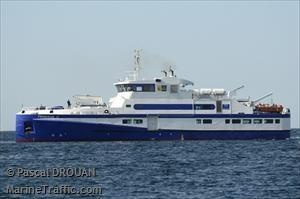otherboat: (15, 54, 299, 144)
